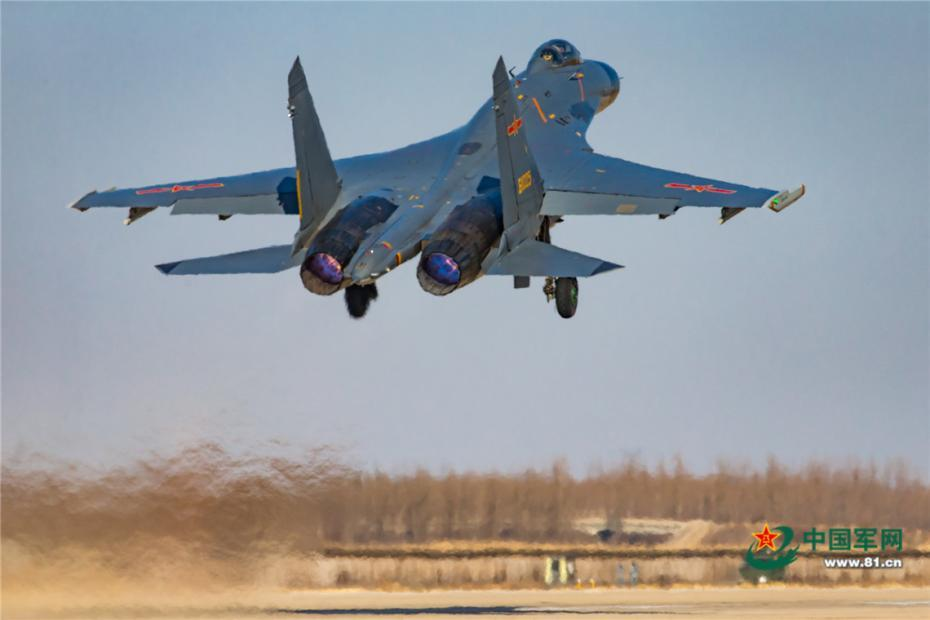airplane: (54, 35, 803, 316)
